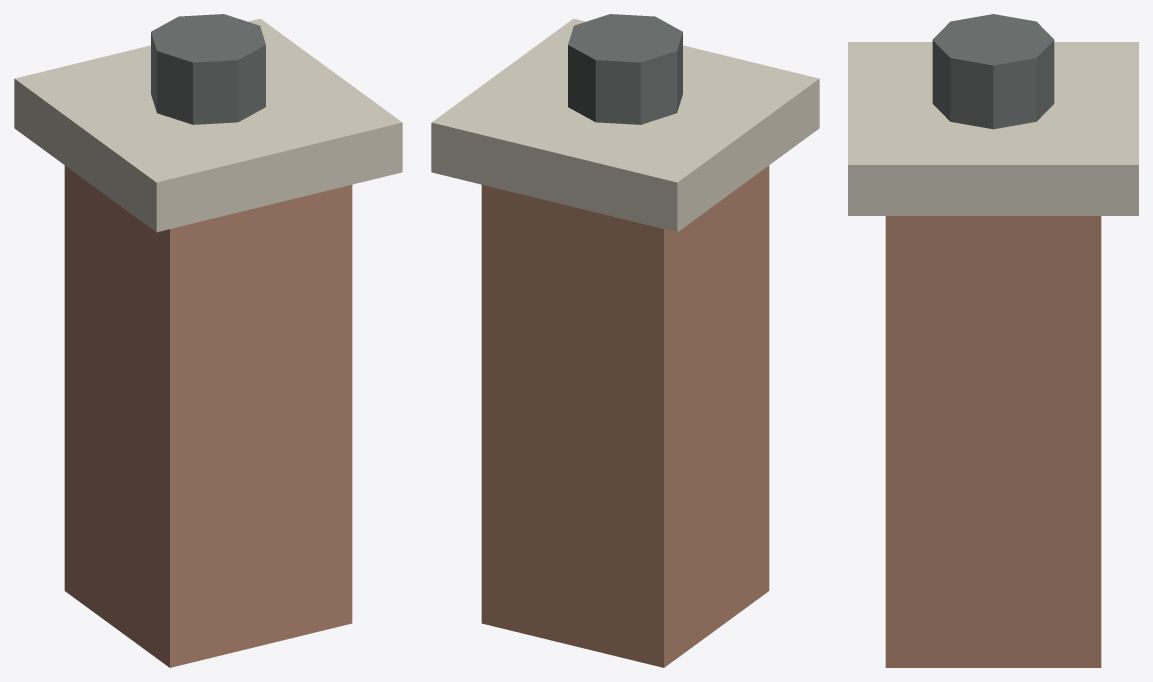
The model's file is chimney-lod0.glb.
3 views of the same model, side by side, from view 1: azimuth 30°, elevation 25°; view 2: azimuth 150°, elevation 25°; view 3: azimuth 270°, elevation 25° (orthographic). The views are drawn at different scales.
Parts seen in each view (by area): view 1: shaft, cap, flue; view 2: shaft, cap, flue; view 3: shaft, cap, flue.
Boxes of the visible parts, bbox=[...] form: shaft: bbox=[64, 165, 352, 667]; cap: bbox=[14, 18, 402, 232]; flue: bbox=[151, 14, 265, 124]; shaft: bbox=[481, 165, 769, 667]; cap: bbox=[431, 18, 819, 232]; flue: bbox=[568, 14, 682, 124]; shaft: bbox=[885, 216, 1101, 667]; cap: bbox=[848, 42, 1138, 215]; flue: bbox=[932, 14, 1054, 129].
Bounding box in the file's own units: 0.62 × 1.37 × 0.62.
